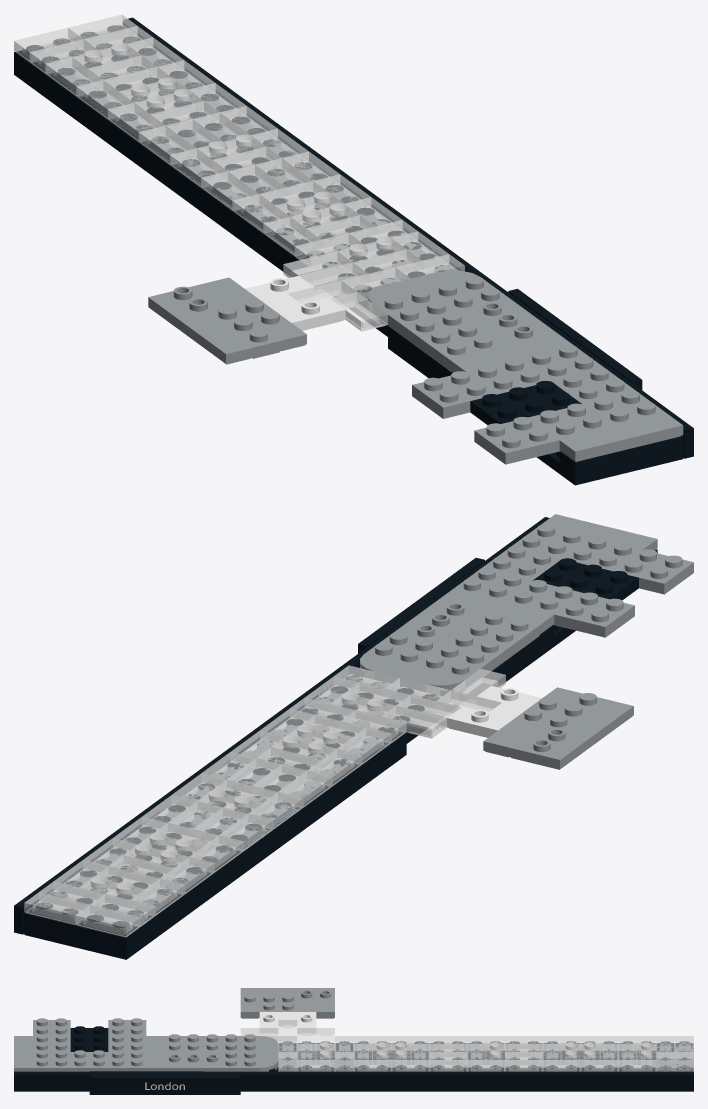
The model's file is London_1.obj.
3 views of the same model, one above another, from view 1: azimuth 30°, elevation 25°; view 2: azimuth 150°, elevation 25°; view 3: azimuth 270°, elevation 25° (orthographic). The views are drawn at different scales.
Visible parts, largest first — view 1: Untitled_035_3795_dat, Untitled_037_3795_dat, Untitled_042_3020_dat, Untitled_004_3460_dat, Untitled_034_2431_dat, Untitled_006_2445_dat, Untitled_038_3021_dat, Untitled_008_3460_dat, Untitled_2445_dat, Untitled_041_3022_dat, Untitled_001_3710_dat, Untitled_011_2445_dat (+75 smaller); view 2: Untitled_037_3795_dat, Untitled_035_3795_dat, Untitled_042_3020_dat, Untitled_004_3460_dat, Untitled_008_3460_dat, Untitled_002_3710_dat, Untitled_2445_dat, Untitled_038_3021_dat, Untitled_006_2445_dat, Untitled_041_3022_dat, Untitled_011_2445_dat, Untitled_039_2431_dat (+73 smaller); view 3: Untitled_033_4162p19_dat, Untitled_029_6636_dat, Untitled_030_6636_dat, Untitled_037_3795_dat, Untitled_035_3795_dat, Untitled_028_6636_dat, Untitled_032_2431_dat, Untitled_025_2431_dat, Untitled_031_2431_dat, Untitled_006_2445_dat, Untitled_042_3020_dat, Untitled_011_2445_dat (+80 smaller).
Boxes of the visible parts, x1,y1,x2,y2 form: Untitled_035_3795_dat: (474,390,667,464); Untitled_037_3795_dat: (412,344,604,418); Untitled_042_3020_dat: (372,276,511,336); Untitled_004_3460_dat: (92,102,234,211); Untitled_034_2431_dat: (559,414,683,461); Untitled_006_2445_dat: (60,43,288,192); Untitled_038_3021_dat: (470,380,581,424); Untitled_008_3460_dat: (216,193,355,296); Untitled_2445_dat: (14,63,200,211); Untitled_041_3022_dat: (403,312,488,359); Untitled_001_3710_dat: (29,56,109,119); Untitled_011_2445_dat: (245,180,425,288); Untitled_037_3795_dat: (452,567,634,637); Untitled_035_3795_dat: (511,524,693,594); Untitled_042_3020_dat: (364,632,495,689); Untitled_004_3460_dat: (182,791,318,894); Untitled_008_3460_dat: (301,705,435,808); Untitled_002_3710_dat: (24,902,141,948); Untitled_2445_dat: (75,820,303,959); Untitled_038_3021_dat: (533,558,638,600); Untitled_006_2445_dat: (76,779,290,914); Untitled_041_3022_dat: (444,623,524,667); Untitled_011_2445_dat: (250,682,421,791); Untitled_039_2431_dat: (437,589,554,634); Untitled_033_4162p19_dat: (89,1075,240,1094); Untitled_029_6636_dat: (316,1071,429,1091); Untitled_030_6636_dat: (429,1071,542,1091); Untitled_037_3795_dat: (108,1018,146,1071); Untitled_035_3795_dat: (33,1018,70,1071); Untitled_028_6636_dat: (203,1071,316,1091); Untitled_032_2431_dat: (618,1071,693,1091); Untitled_025_2431_dat: (14,1071,89,1091); Untitled_031_2431_dat: (543,1071,618,1091); Untitled_006_2445_dat: (452,1049,674,1066); Untitled_042_3020_dat: (221,1034,259,1071); Untitled_011_2445_dat: (278,1049,444,1066).
Bounding box in the file's own units: 0.0864 × 0.0112 × 0.288.
